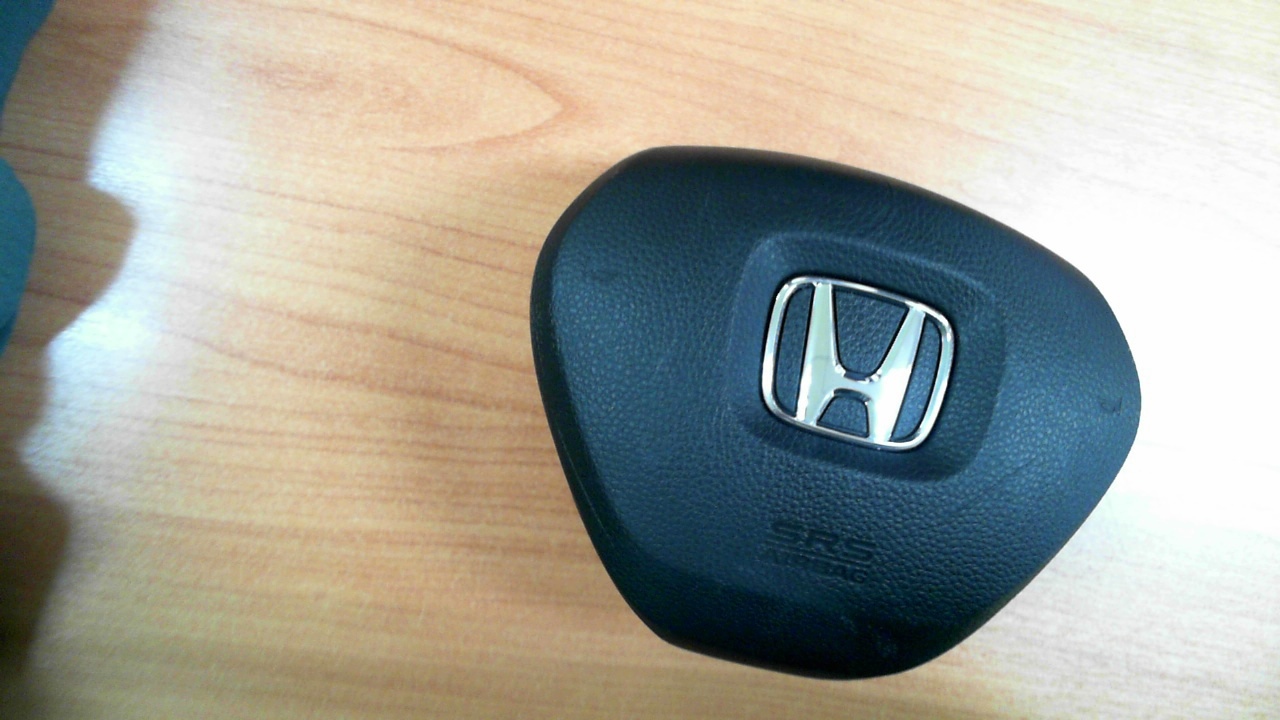Airbag: (529, 145, 1142, 682)
Honda: (761, 275, 955, 450)
